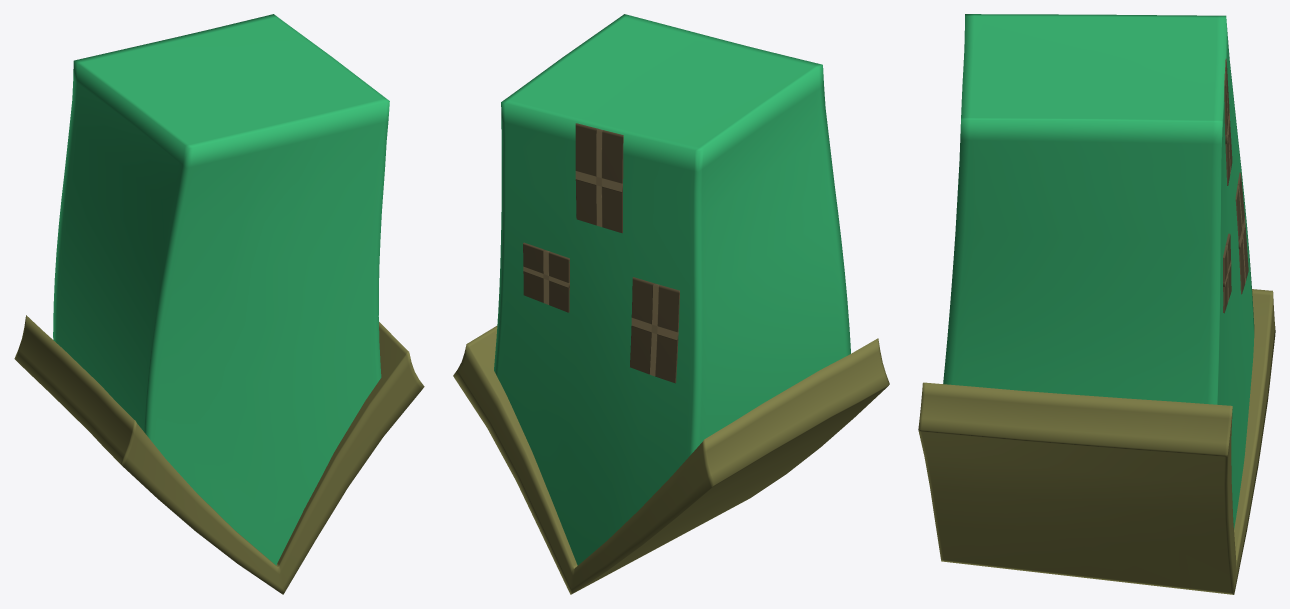
File: house3.fbx
The picture shows the model from 3 angles, left to right: view 1: azimuth 30°, elevation 25°; view 2: azimuth 150°, elevation 25°; view 3: azimuth 270°, elevation 25°; orthographic projection. The views are drawn at different scales.
Visible parts, largest first — view 1: house.002; view 2: house.002; view 3: house.002.
Boxes of the visible parts, x1=… form: house.002: x1=14, y1=14, x2=424, y2=594; house.002: x1=453, y1=14, x2=889, y2=594; house.002: x1=918, y1=14, x2=1275, y2=594.
Size of the model in its own units: 134 by 190 by 120.
